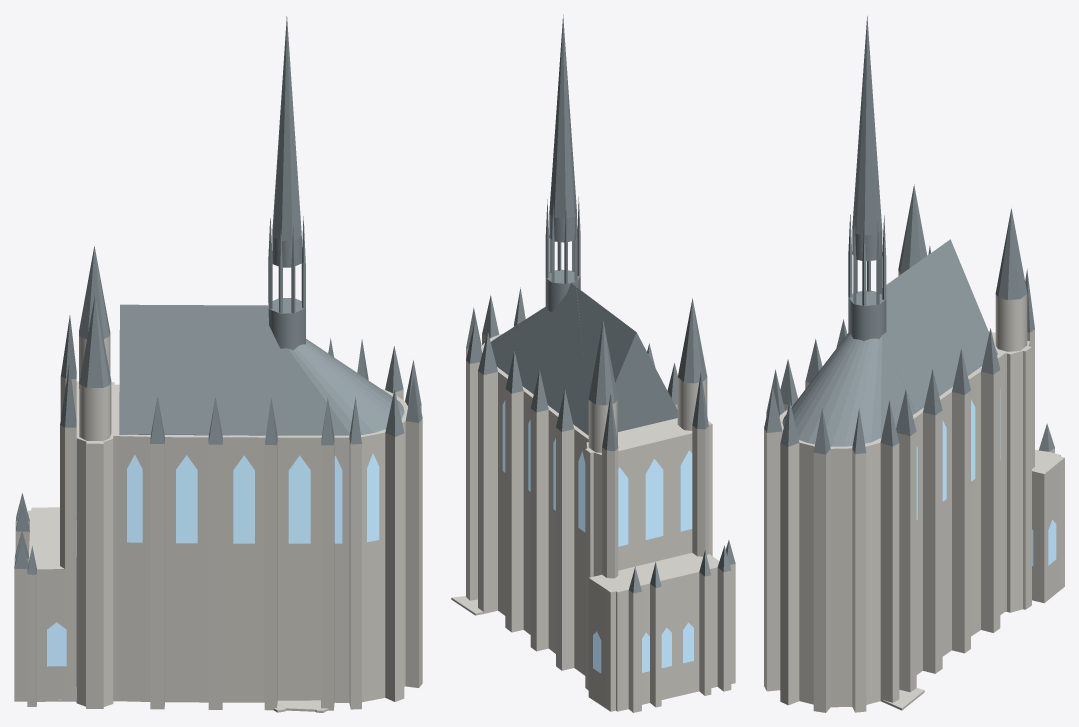
3 views of the same model, side by side, from view 1: azimuth 30°, elevation 25°; view 2: azimuth 150°, elevation 25°; view 3: azimuth 270°, elevation 25° (orthographic). The views are drawn at different scales.
Visible parts, largest first — view 1: stone, roof, window; view 2: stone, roof, window; view 3: stone, roof, window.
Boxes of the visible parts, x1,y1,x2,y2 form: stone: (14, 332, 422, 712); roof: (14, 16, 422, 574); window: (47, 437, 379, 666); stone: (451, 325, 735, 712); roof: (466, 14, 735, 593); window: (502, 400, 693, 673); stone: (764, 271, 1064, 712); roof: (764, 16, 1054, 454); window: (916, 389, 1056, 565).
Size of the model in its own units: 40.37 by 75 by 31.64.
